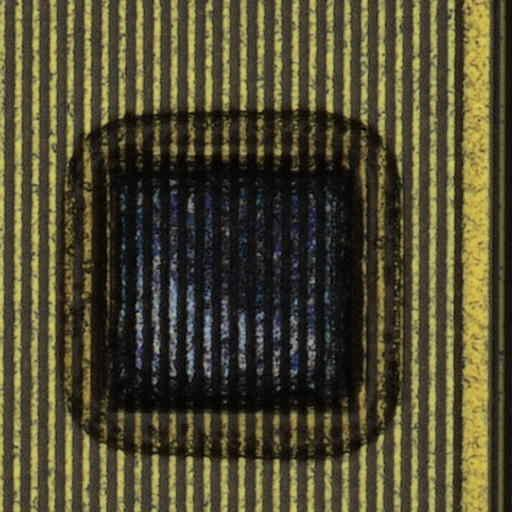SEZ BURNT: (57, 107, 408, 466)
